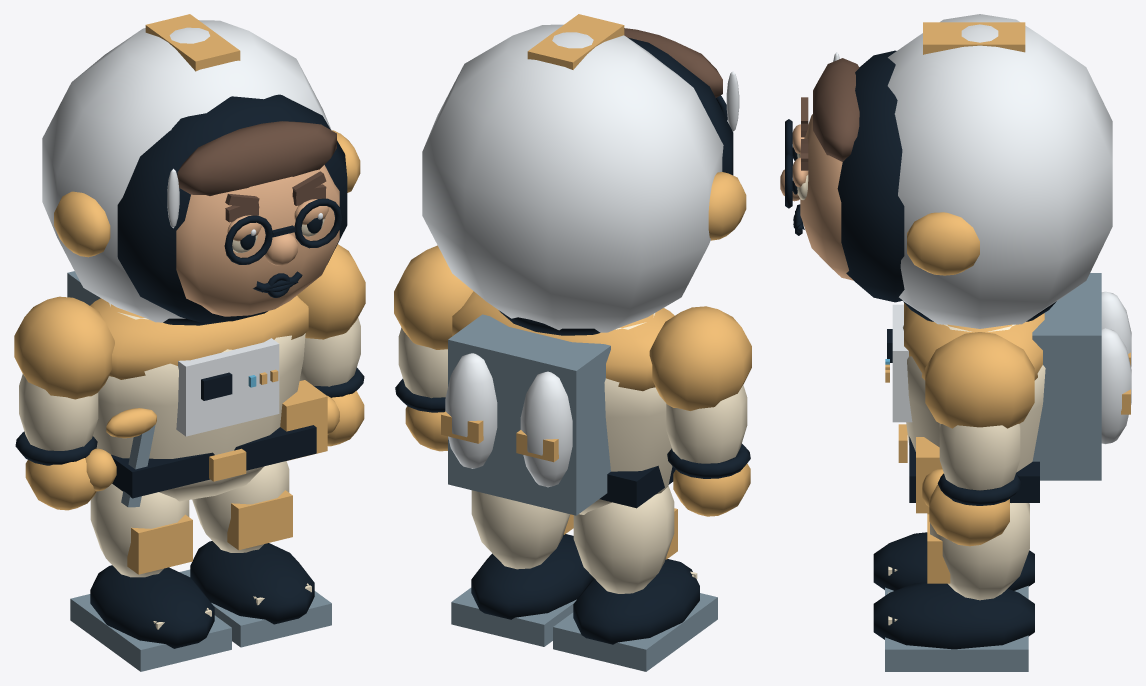
Rendered from crew-dom.glb.
3 renders of one model, left to right at view 1: azimuth 30°, elevation 25°; view 2: azimuth 150°, elevation 25°; view 3: azimuth 270°, elevation 25°, orthographic. The views are drawn at different scales.
Visible parts, largest first — view 1: helmet-shell, boot (×2), visor-gasket, face, shoulder (×2), pressure-suit, shoulder-yoke, hairline, leg-pressure (×2), sleeve (×2), sole (×2), chest-panel (+16 smaller); view 2: helmet-shell, life-pack, shoulder (×2), leg-pressure (×2), boot (×2), air-cell (×2), sole (×2), sleeve (×2), pressure-suit, shoulder-yoke, glove (×2), helmet-crown (+8 smaller); view 3: helmet-shell, visor-gasket, life-pack, boot (×2), shoulder, leg-pressure, sleeve, face, air-cell (×2), sole, hairline, helmet-hinge (+9 smaller).
Boxes of the visible parts, left/top/right/bottom form: helmet-shell: left=42, top=20, right=331, bottom=322; boot (×2): left=90, top=541, right=314, bottom=648; visor-gasket: left=117, top=94, right=347, bottom=322; face: left=176, top=165, right=339, bottom=316; shoulder (×2): left=14, top=244, right=365, bottom=399; pressure-suit: left=93, top=303, right=305, bottom=501; shoulder-yoke: left=90, top=295, right=308, bottom=379; hairline: left=177, top=121, right=336, bottom=195; leg-pressure (×2): left=90, top=461, right=289, bottom=577; sleeve (×2): left=19, top=317, right=360, bottom=450; sole (×2): left=70, top=569, right=331, bottom=671; chest-panel: left=176, top=338, right=279, bottom=436; helmet-shell: left=422, top=24, right=723, bottom=332; life-pack: left=448, top=314, right=610, bottom=515; shoulder (×2): left=394, top=245, right=751, bottom=410; leg-pressure (×2): left=471, top=485, right=674, bottom=593; boot (×2): left=471, top=534, right=699, bottom=644; air-cell (×2): left=445, top=353, right=572, bottom=487; sole (×2): left=451, top=588, right=717, bottom=671; sleeve (×2): left=398, top=327, right=747, bottom=463; pressure-suit: left=542, top=313, right=672, bottom=514; shoulder-yoke: left=452, top=291, right=674, bottom=391; glove (×2): left=405, top=406, right=750, bottom=516; helmet-crown: left=527, top=14, right=624, bottom=69; helmet-shell: left=887, top=14, right=1112, bottom=328; visor-gasket: left=837, top=50, right=904, bottom=302; life-pack: left=1032, top=273, right=1101, bottom=480; boot (×2): left=873, top=532, right=1034, bottom=649; shoulder: left=925, top=332, right=1034, bottom=428; leg-pressure: left=930, top=503, right=1029, bottom=600; sleeve: left=939, top=423, right=1020, bottom=490; face: left=800, top=114, right=853, bottom=280; air-cell (×2): left=1101, top=291, right=1131, bottom=444; sole: left=885, top=635, right=1028, bottom=671; hairline: left=813, top=58, right=859, bottom=161; helmet-hinge: left=907, top=212, right=979, bottom=275.
Bounding box in the file's own units: 1.56 × 2.56 × 1.37.
